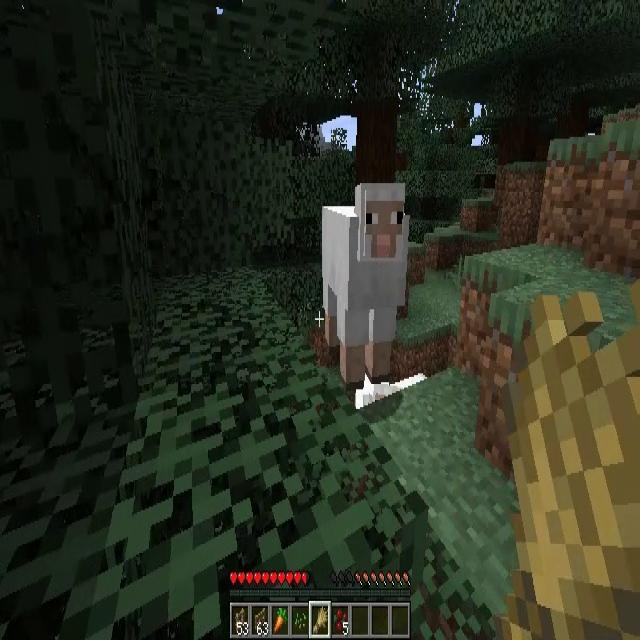sheep: (322, 180, 412, 385)
